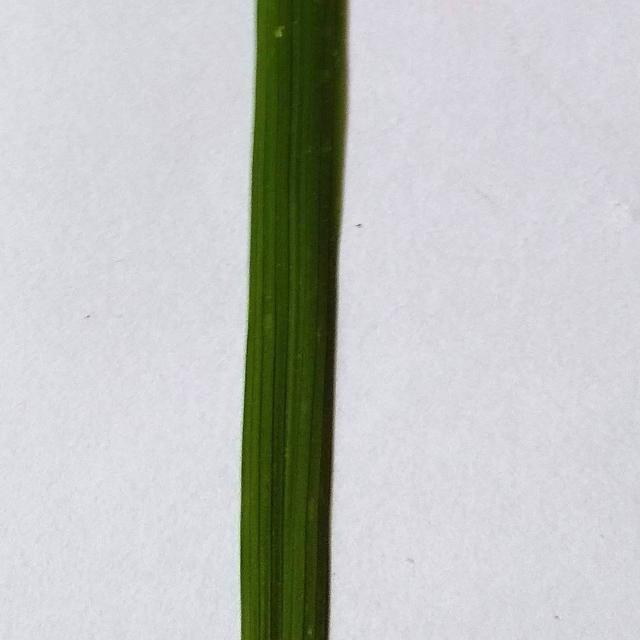Rice_Healthy: (241, 0, 347, 640)
